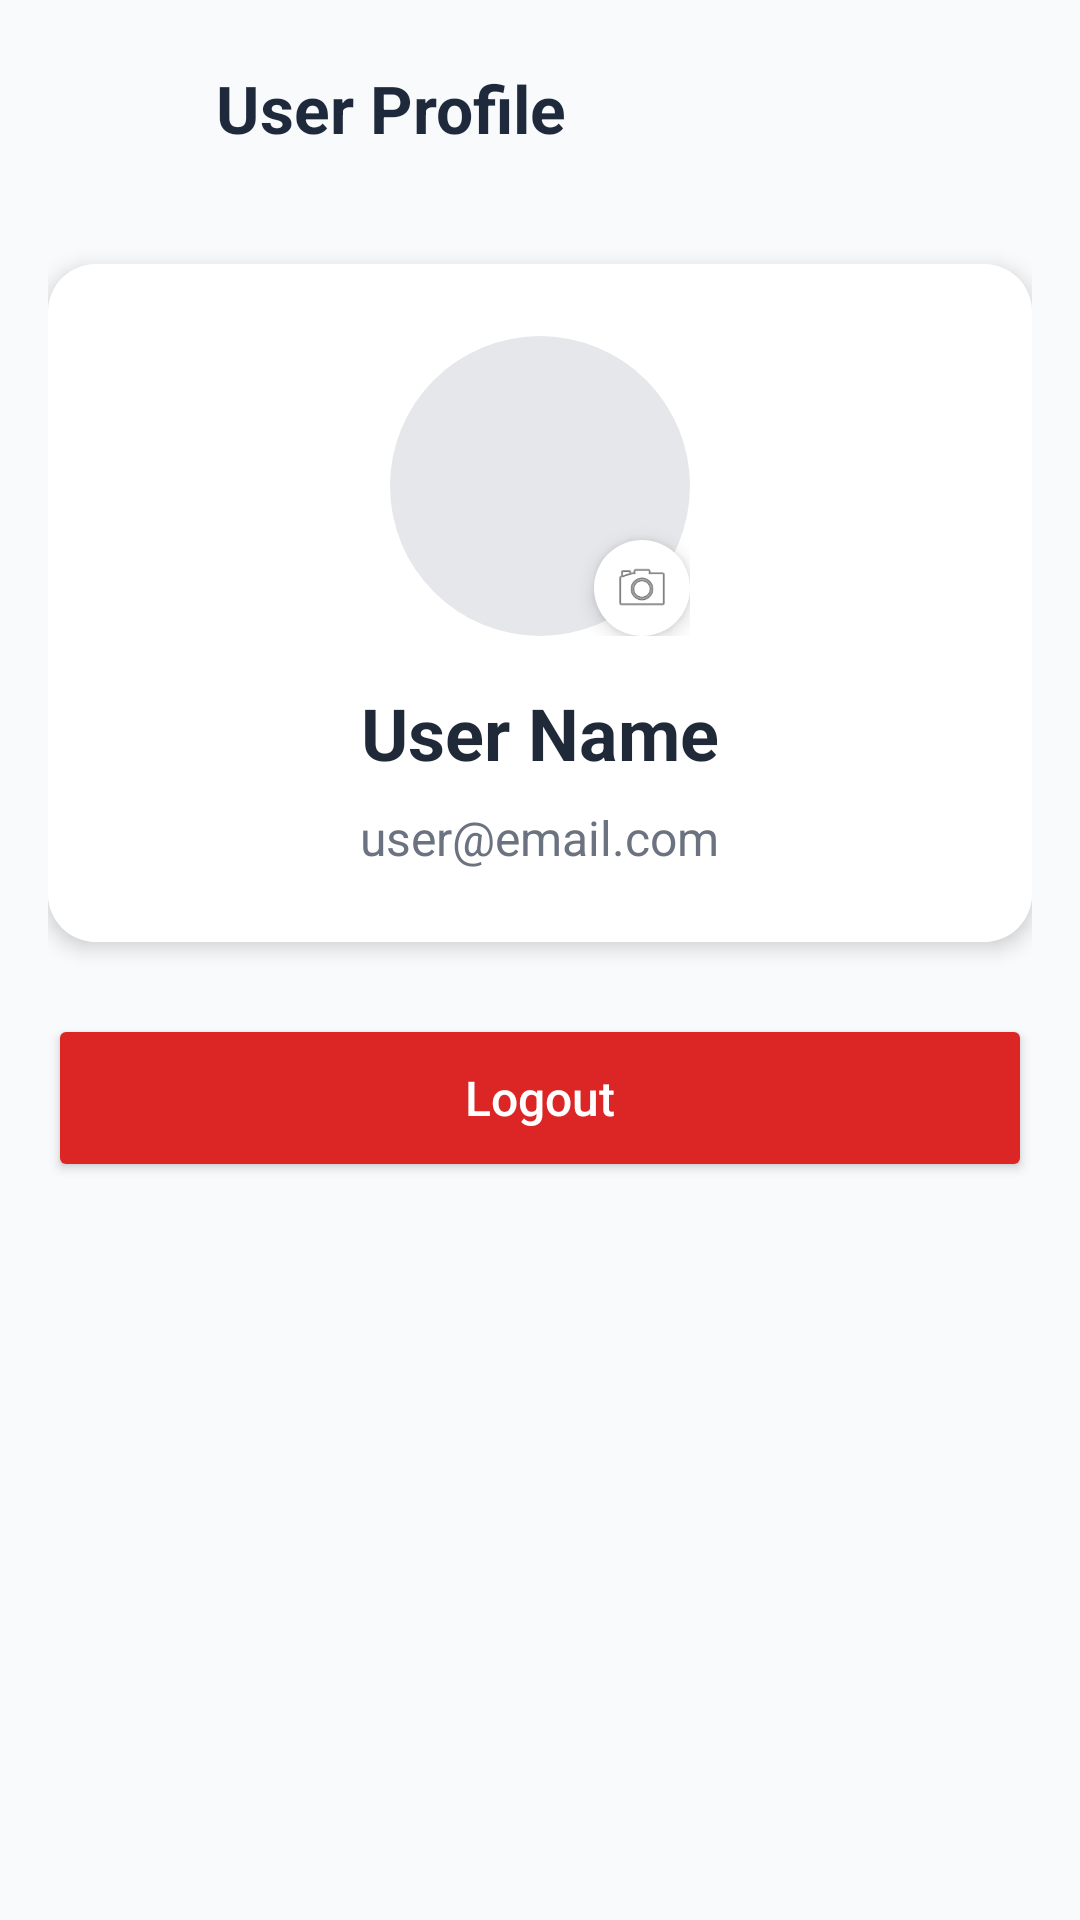

Point at icon controls on the screen. Image size 1080 x 1920, points as (x,y).
camera: (642,588)
